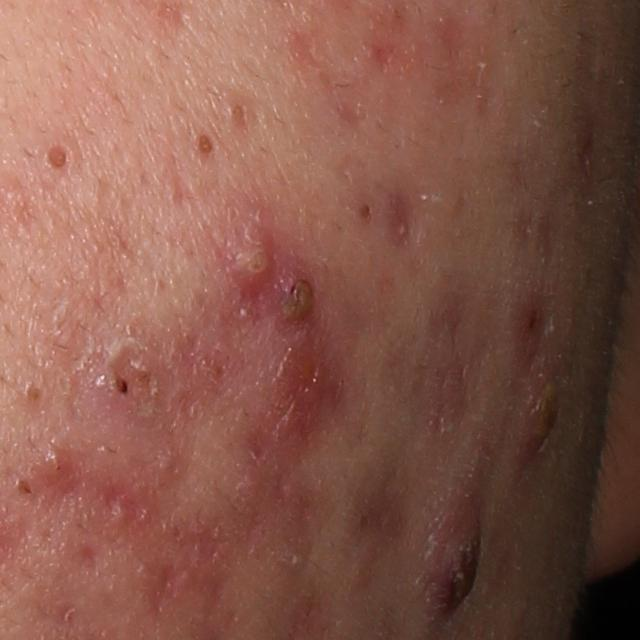atrophic_scar: (137, 555, 189, 617), (382, 188, 421, 252), (370, 44, 393, 77)
comedo: (33, 131, 84, 175), (187, 125, 222, 163), (10, 475, 35, 499), (356, 200, 376, 228)
nodule: (236, 325, 339, 458)
papule: (67, 327, 165, 424), (518, 345, 567, 470), (34, 438, 79, 487)
pustule: (221, 207, 279, 293), (273, 265, 323, 327)
